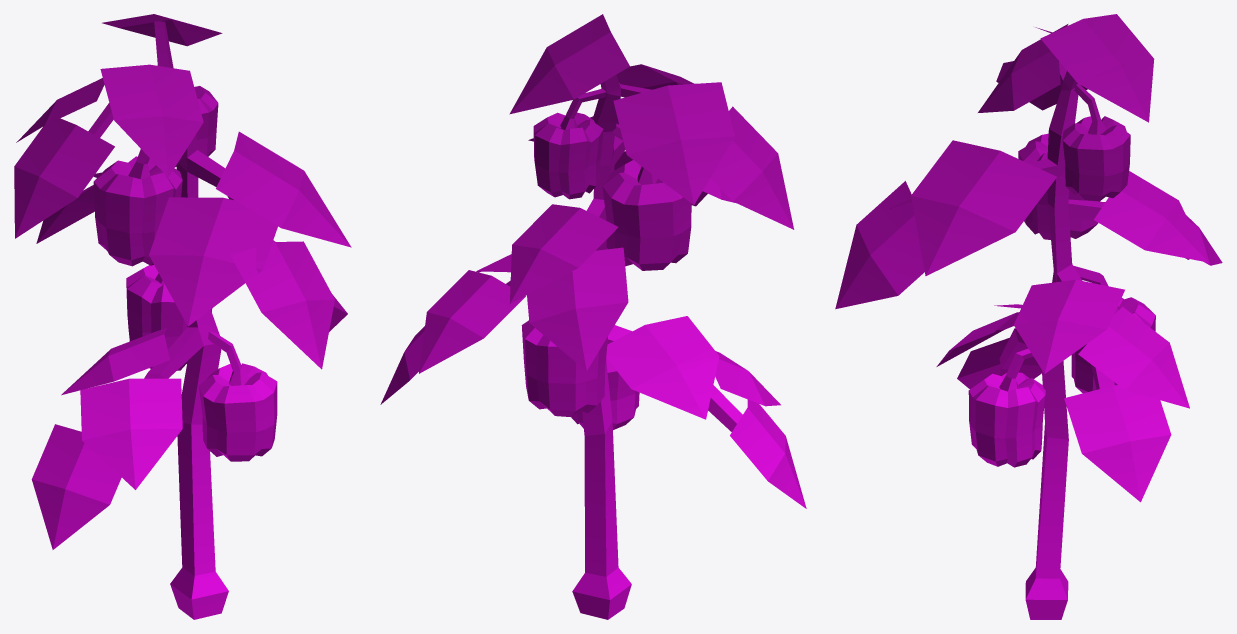
File: SM_Prop_Plant_Bush_01_Pepper.fbx
3 views of the same model, side by side, from view 1: azimuth 30°, elevation 25°; view 2: azimuth 150°, elevation 25°; view 3: azimuth 270°, elevation 25° (orthographic). The views are drawn at different scales.
Visible parts, largest first — view 1: SM_Prop_Plant_Bush_01_Pepper; view 2: SM_Prop_Plant_Bush_01_Pepper; view 3: SM_Prop_Plant_Bush_01_Pepper.
Part boxes in pixels (x1,y1,x2,y2): SM_Prop_Plant_Bush_01_Pepper: [14, 14, 351, 619]; SM_Prop_Plant_Bush_01_Pepper: [380, 14, 806, 619]; SM_Prop_Plant_Bush_01_Pepper: [835, 14, 1222, 619].
Size of the model in its own units: 62.71 by 98.88 by 59.72.
